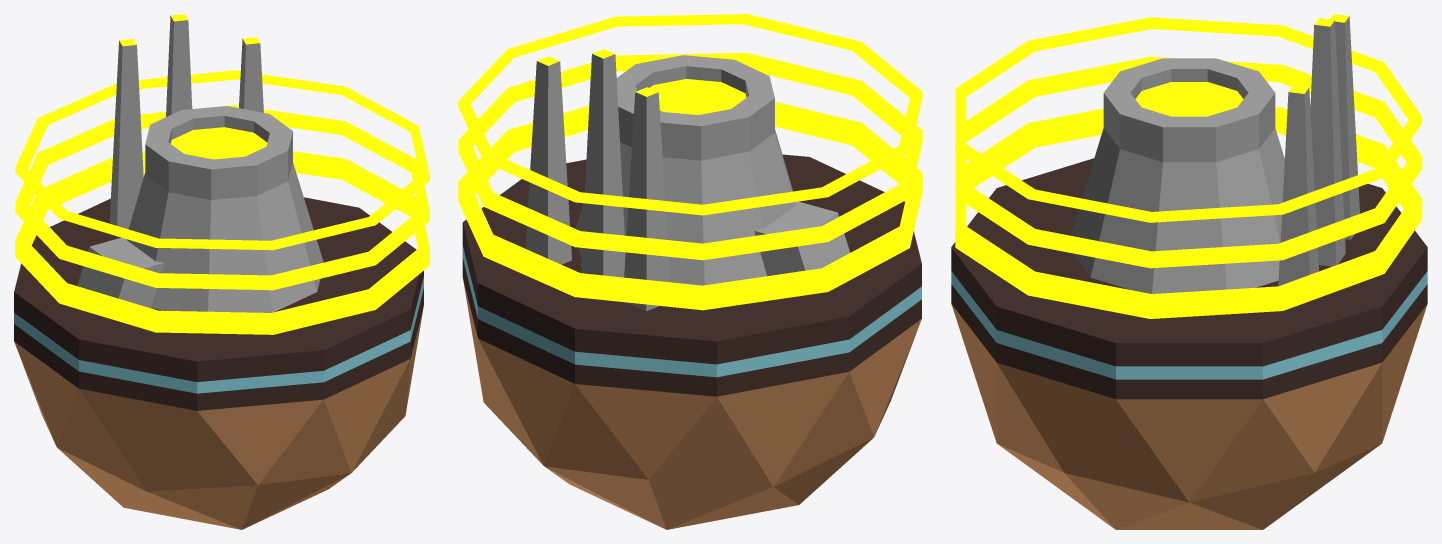
File: ReactorPlanet.fbx
3 renders of one model, left to right at view 1: azimuth 30°, elevation 25°; view 2: azimuth 150°, elevation 25°; view 3: azimuth 270°, elevation 25°, orthographic. The views are drawn at different scales.
Visible parts, largest first — view 1: Icosphere; view 2: Icosphere; view 3: Icosphere.
Boxes of the visible parts, bbox=[...] form: Icosphere: bbox=[14, 14, 429, 529]; Icosphere: bbox=[458, 14, 922, 529]; Icosphere: bbox=[951, 14, 1427, 529].
Bounding box in the file's own units: 198 × 235 × 200.
